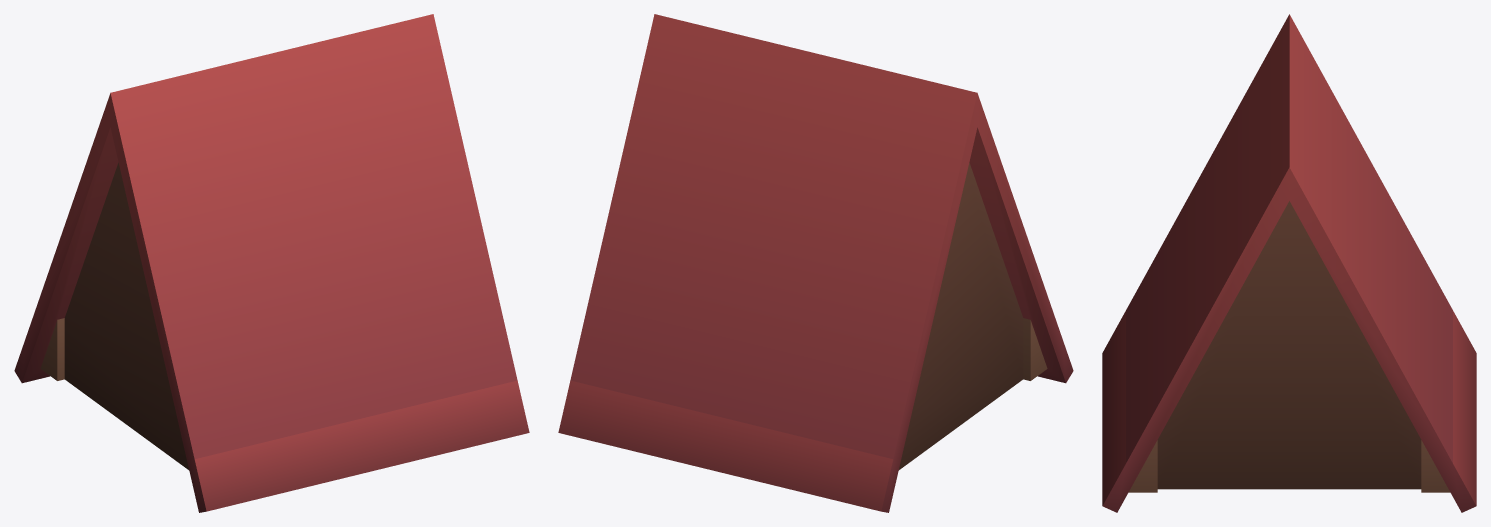
File: roof-high-gable.glb
3 renders of one model, left to right at view 1: azimuth 30°, elevation 25°; view 2: azimuth 150°, elevation 25°; view 3: azimuth 270°, elevation 25°, orthographic. The views are drawn at different scales.
Visible parts, largest first — view 1: roof-high-gable; view 2: roof-high-gable; view 3: roof-high-gable.
Part boxes in pixels (box(x1,y1,x2,y2)): roof-high-gable: box(14, 14, 529, 512); roof-high-gable: box(558, 14, 1073, 512); roof-high-gable: box(1102, 14, 1476, 512).
Bounding box in the file's own units: 3.3 × 3.47 × 3.4.
